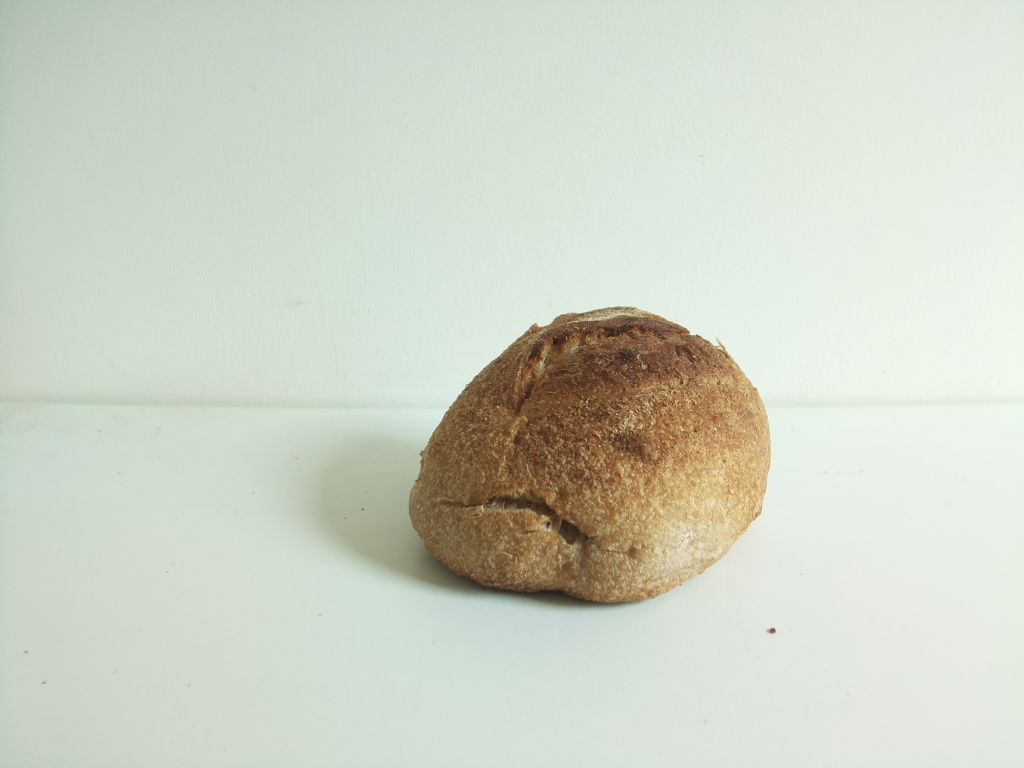bread: (408, 305, 770, 608)
